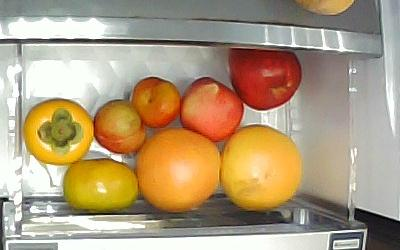apple: (227, 45, 302, 111), (179, 75, 244, 142)
grapefruit: (133, 125, 220, 212), (219, 123, 302, 209)
persimmon: (21, 96, 94, 165), (61, 156, 139, 213)
prune: (92, 97, 147, 154), (130, 75, 181, 127)
